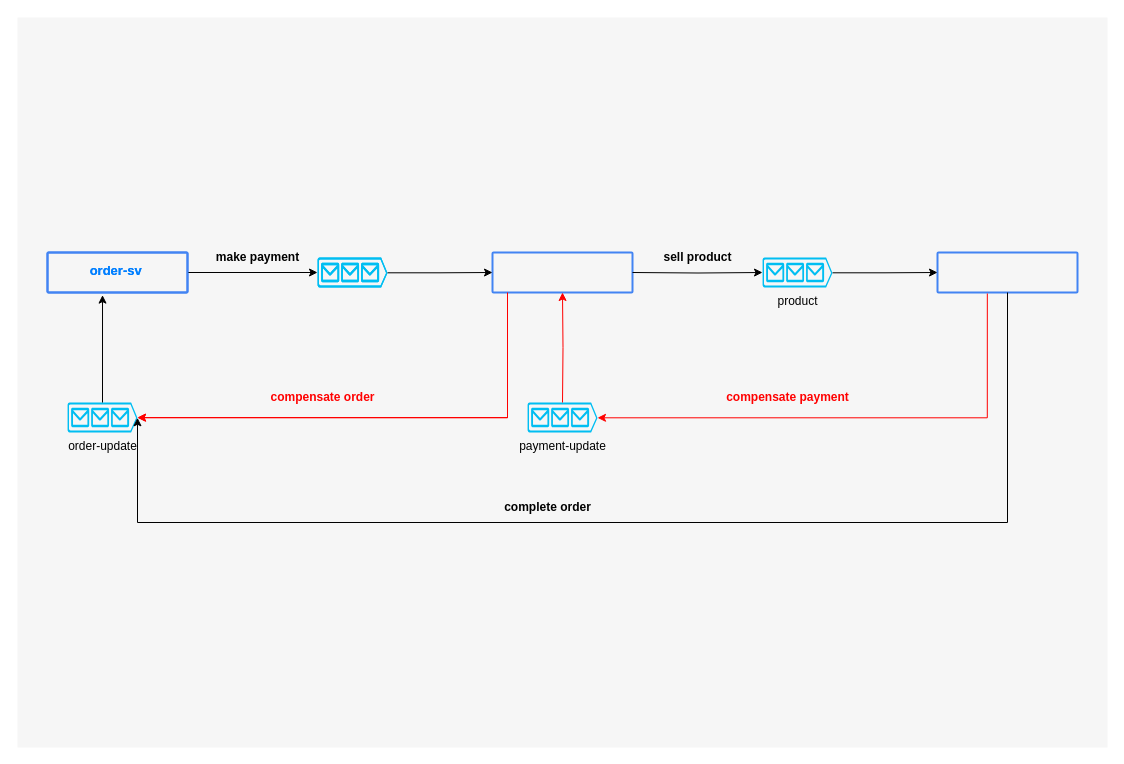
This 1124x764 diagram has some shape labels left out. The shapes that lost their labels are listed below. From the top down, each one's centre as x and y in pixels, then its label:
At (x=352, y=272): "payment".
At (x=562, y=272): "payment-svc".
At (x=1007, y=272): "product-svc".
